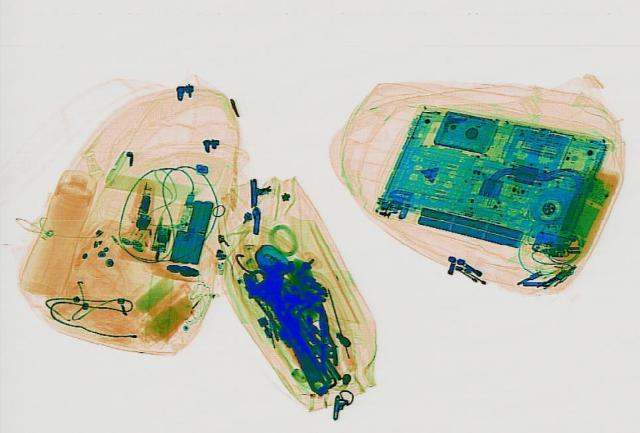Wrench: (236, 262, 344, 396)
